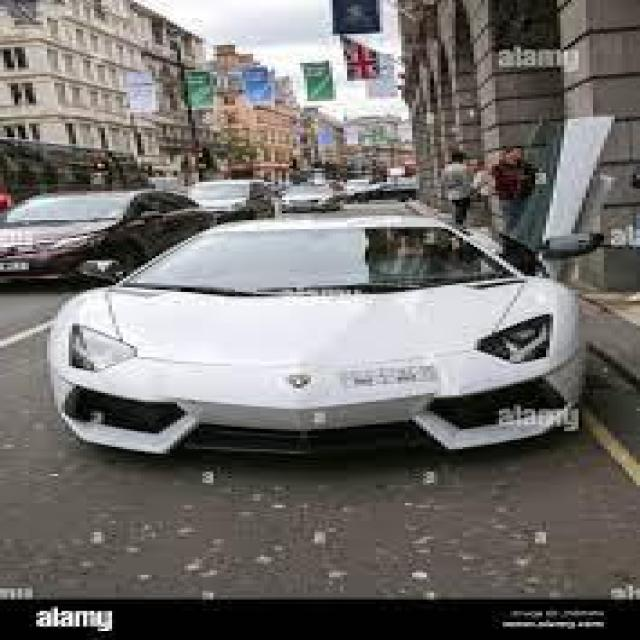license_plate: (314, 346, 456, 400), (0, 247, 43, 280)
